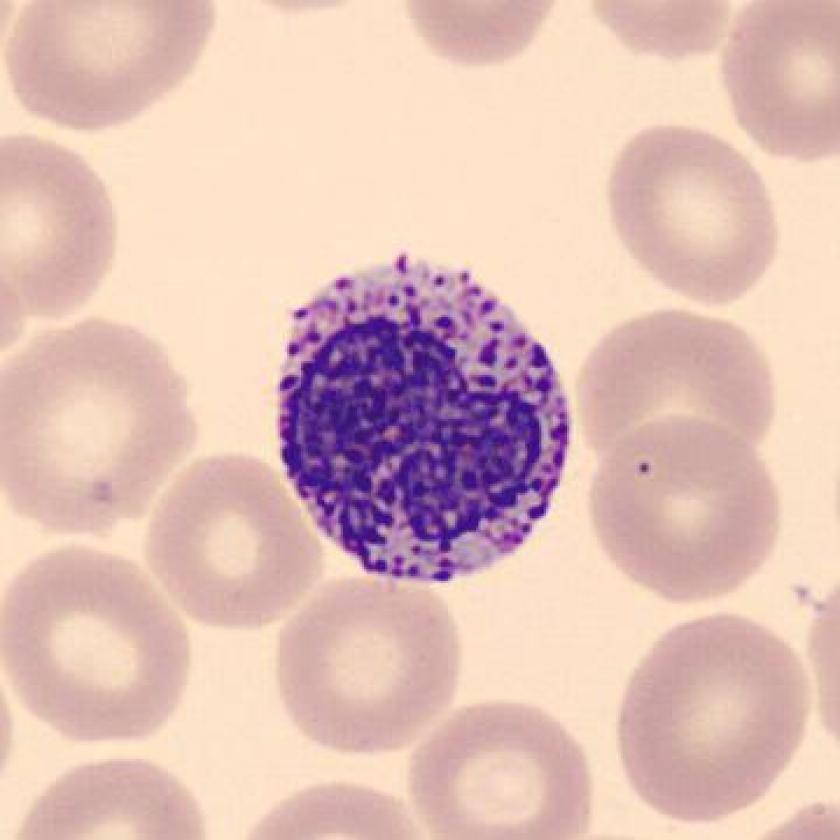basophil: (267, 258, 589, 593)
